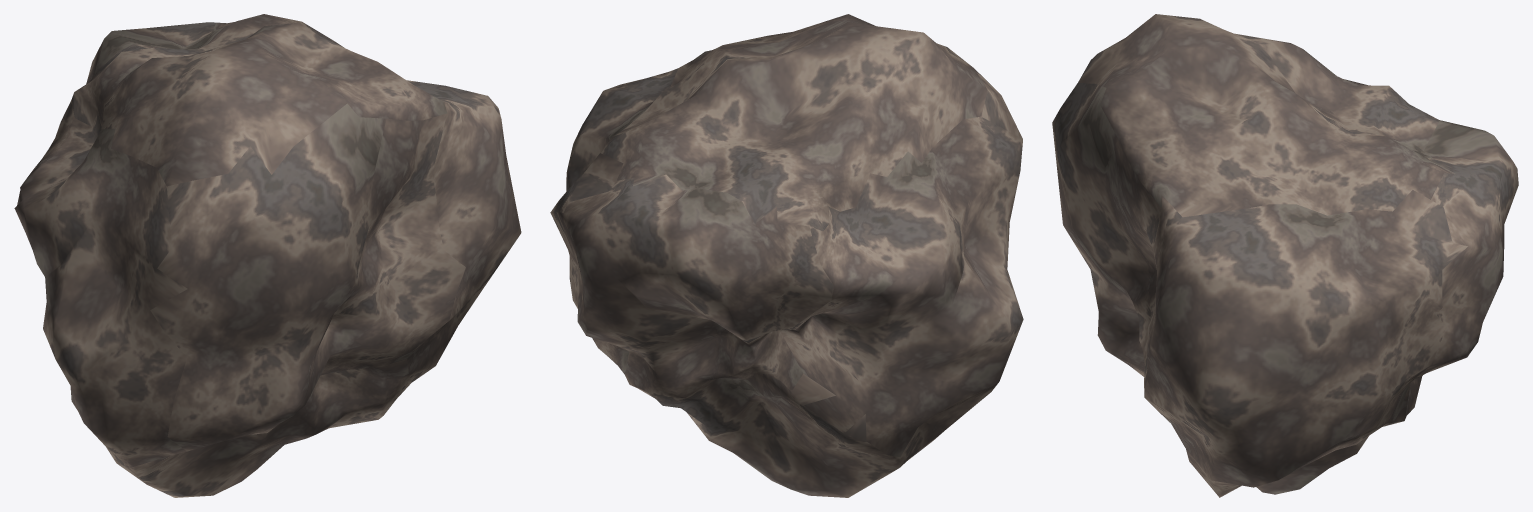
File: boulder1.fbx
The picture shows the model from 3 angles, left to right: view 1: azimuth 30°, elevation 25°; view 2: azimuth 150°, elevation 25°; view 3: azimuth 270°, elevation 25°; orthographic projection. The views are drawn at different scales.
Parts seen in each view (by area): view 1: boulder; view 2: boulder; view 3: boulder.
Part boxes in pixels (x1,y1,x2,y2): boulder: (14, 14, 521, 497); boulder: (550, 14, 1023, 497); boulder: (1052, 14, 1518, 497).
Bounding box in the file's own units: 128 × 125 × 116.
Materials: 1 (1 with a texture image).
